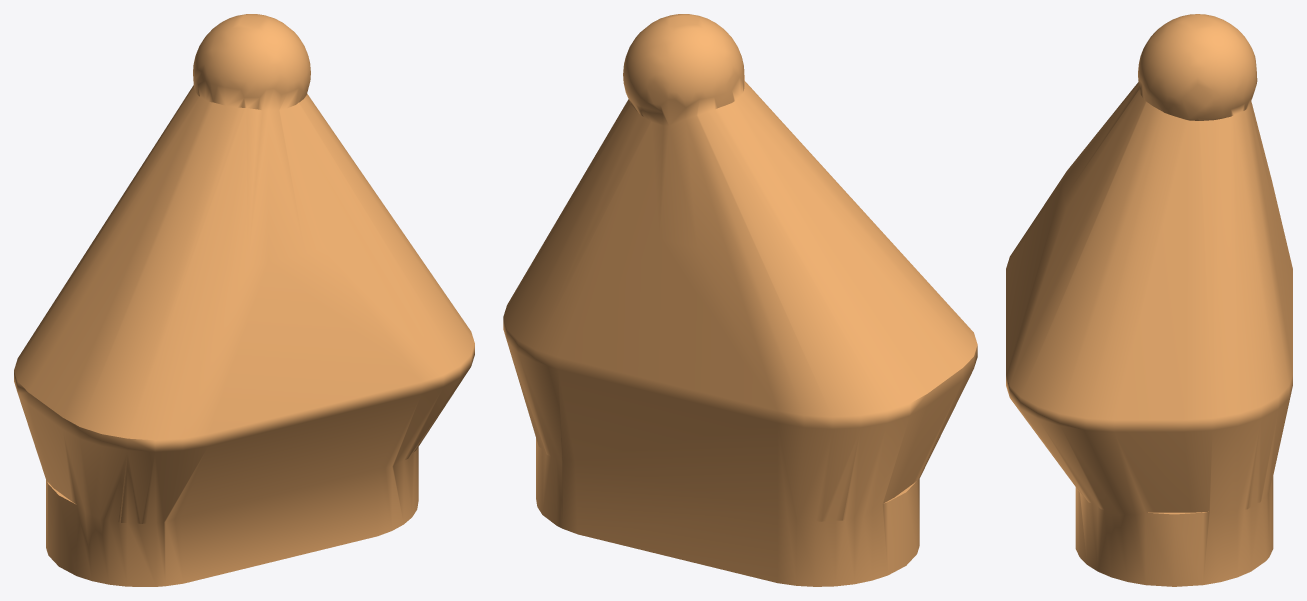
The model's file is custom_wizard_hat.glb.
3 renders of one model, left to right at view 1: azimuth 30°, elevation 25°; view 2: azimuth 150°, elevation 25°; view 3: azimuth 270°, elevation 25°, orthographic. The views are drawn at different scales.
Parts seen in each view (by area): view 1: custom_wizard_hat; view 2: custom_wizard_hat; view 3: custom_wizard_hat.
Boxes of the visible parts, box(x1,y1,x2,y2) form: custom_wizard_hat: box(14, 14, 474, 586); custom_wizard_hat: box(503, 14, 977, 586); custom_wizard_hat: box(1006, 14, 1292, 586).
Bounding box in the file's own units: 0.028 × 0.0328 × 0.0172.
